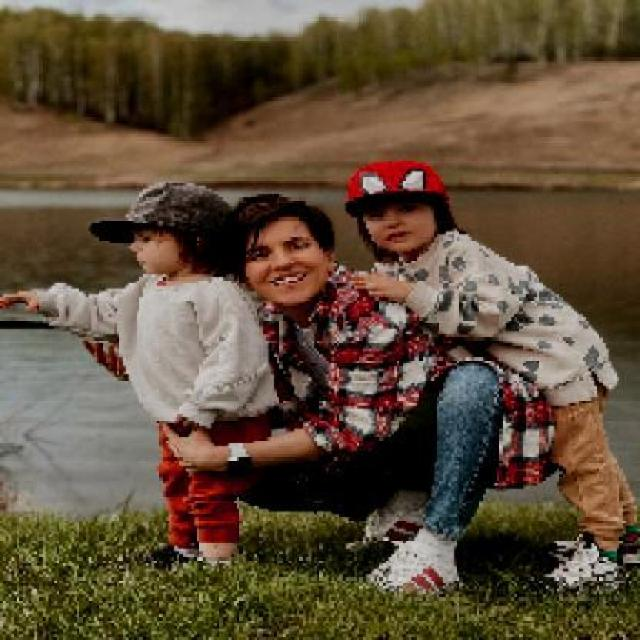child: (345, 156, 640, 595), (3, 179, 286, 575)
